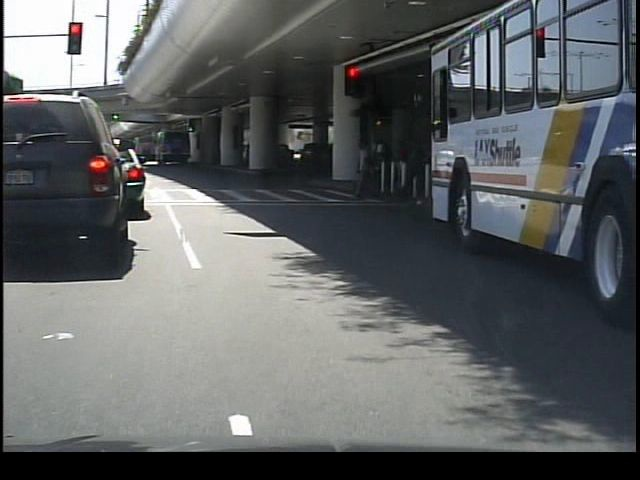person: (347, 137, 381, 204)
